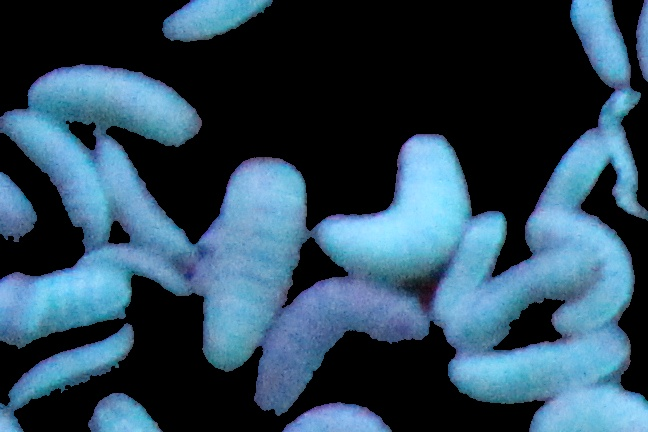larvae: (198, 158, 311, 370), (311, 132, 468, 277), (258, 278, 430, 410), (28, 61, 201, 150), (446, 250, 595, 349), (3, 108, 110, 244), (528, 214, 642, 332), (96, 134, 198, 263), (448, 331, 630, 402), (1, 265, 133, 344), (10, 326, 134, 402), (431, 211, 511, 320), (535, 125, 613, 221), (78, 247, 194, 299), (531, 385, 648, 432), (568, 1, 631, 84), (163, 1, 277, 44), (278, 404, 393, 432), (85, 394, 168, 432)
